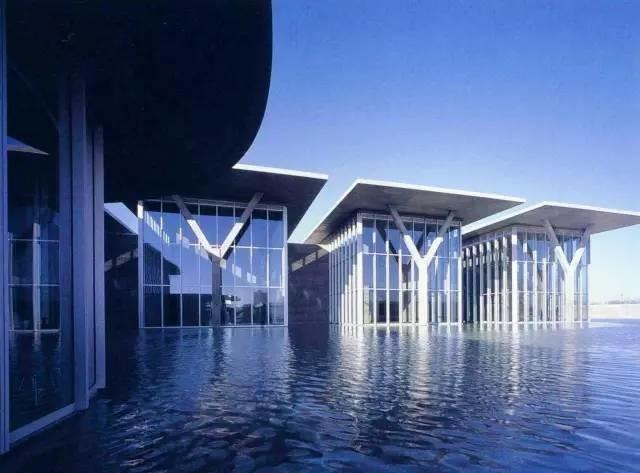buildings: (145, 184, 619, 443), (259, 180, 637, 346)
sea_river: (101, 281, 614, 447)
